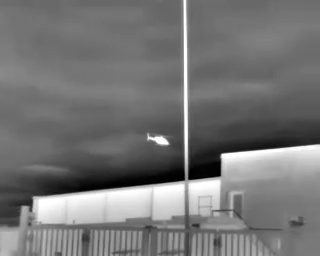HELICOPTER: (143, 128, 176, 151)
